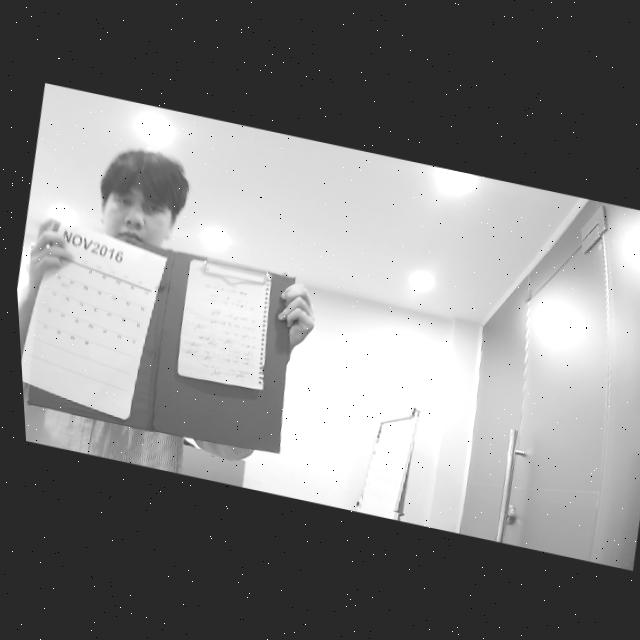document: (21, 218, 167, 422), (176, 258, 272, 390)
face: (97, 145, 191, 252)
